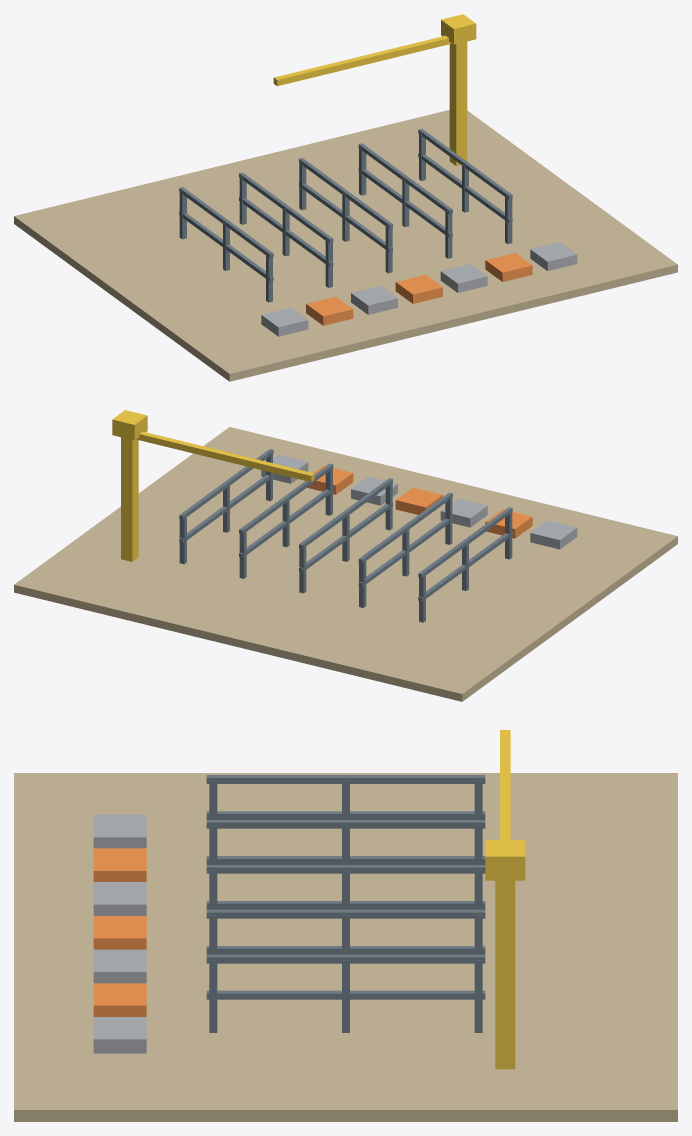
The model's file is gpt-canteiro-da-resenha.glb.
The picture shows the model from 3 angles, top to bottom: view 1: azimuth 30°, elevation 25°; view 2: azimuth 150°, elevation 25°; view 3: azimuth 270°, elevation 25°; orthographic projection. The views are drawn at different scales.
Visible parts, largest first — view 1: Canteiro da Resenha-000, Canteiro da Resenha-026, Canteiro da Resenha-027, Canteiro da Resenha-030, Canteiro da Resenha-029, Canteiro da Resenha-032, Canteiro da Resenha-033, Canteiro da Resenha-034, Canteiro da Resenha-035, Canteiro da Resenha-031, Canteiro da Resenha-028, Canteiro da Resenha-022 (+9 smaller); view 2: Canteiro da Resenha-000, Canteiro da Resenha-026, Canteiro da Resenha-027, Canteiro da Resenha-029, Canteiro da Resenha-031, Canteiro da Resenha-028, Canteiro da Resenha-032, Canteiro da Resenha-022, Canteiro da Resenha-021, Canteiro da Resenha-023, Canteiro da Resenha-024, Canteiro da Resenha-033 (+9 smaller); view 3: Canteiro da Resenha-000, Canteiro da Resenha-026, Canteiro da Resenha-024, Canteiro da Resenha-025, Canteiro da Resenha-020, Canteiro da Resenha-021, Canteiro da Resenha-022, Canteiro da Resenha-023, Canteiro da Resenha-016, Canteiro da Resenha-017, Canteiro da Resenha-018, Canteiro da Resenha-019 (+12 smaller).
Part boxes in pixels (box(x1,y1,x2,y2)): Canteiro da Resenha-000: box(14, 110, 677, 381); Canteiro da Resenha-026: box(449, 41, 467, 165); Canteiro da Resenha-027: box(273, 35, 451, 86); Canteiro da Resenha-030: box(306, 296, 353, 325); Canteiro da Resenha-029: box(261, 307, 308, 336); Canteiro da Resenha-032: box(395, 275, 442, 303); Canteiro da Resenha-033: box(440, 264, 487, 292); Canteiro da Resenha-034: box(485, 253, 532, 281); Canteiro da Resenha-035: box(530, 242, 577, 270); Canteiro da Resenha-031: box(351, 285, 397, 314); Canteiro da Resenha-028: box(441, 14, 476, 44); Canteiro da Resenha-022: box(239, 172, 333, 243); Canteiro da Resenha-000: box(14, 427, 677, 701); Canteiro da Resenha-026: box(121, 437, 138, 561); Canteiro da Resenha-027: box(136, 431, 314, 481); Canteiro da Resenha-029: box(530, 520, 577, 549); Canteiro da Resenha-031: box(440, 498, 487, 527); Canteiro da Resenha-028: box(112, 410, 147, 440); Canteiro da Resenha-032: box(395, 487, 442, 514); Canteiro da Resenha-022: box(358, 492, 452, 563); Canteiro da Resenha-021: box(418, 507, 512, 577); Canteiro da Resenha-023: box(299, 478, 392, 548); Canteiro da Resenha-024: box(239, 463, 333, 534); Canteiro da Resenha-033: box(351, 476, 397, 505); Canteiro da Resenha-000: box(14, 773, 677, 1121); Canteiro da Resenha-026: box(495, 880, 515, 1069); Canteiro da Resenha-024: box(206, 909, 485, 918); Canteiro da Resenha-025: box(206, 954, 485, 963); Canteiro da Resenha-020: box(206, 990, 485, 999); Canteiro da Resenha-021: box(206, 775, 485, 783); Canteiro da Resenha-022: box(206, 820, 485, 828); Canteiro da Resenha-023: box(206, 865, 485, 873); Canteiro da Resenha-016: box(206, 811, 485, 819); Canteiro da Resenha-017: box(206, 856, 485, 864); Canteiro da Resenha-018: box(206, 901, 485, 909); Canteiro da Resenha-019: box(206, 946, 485, 954).
Size of the model in its own units: 60 by 19 by 50.
